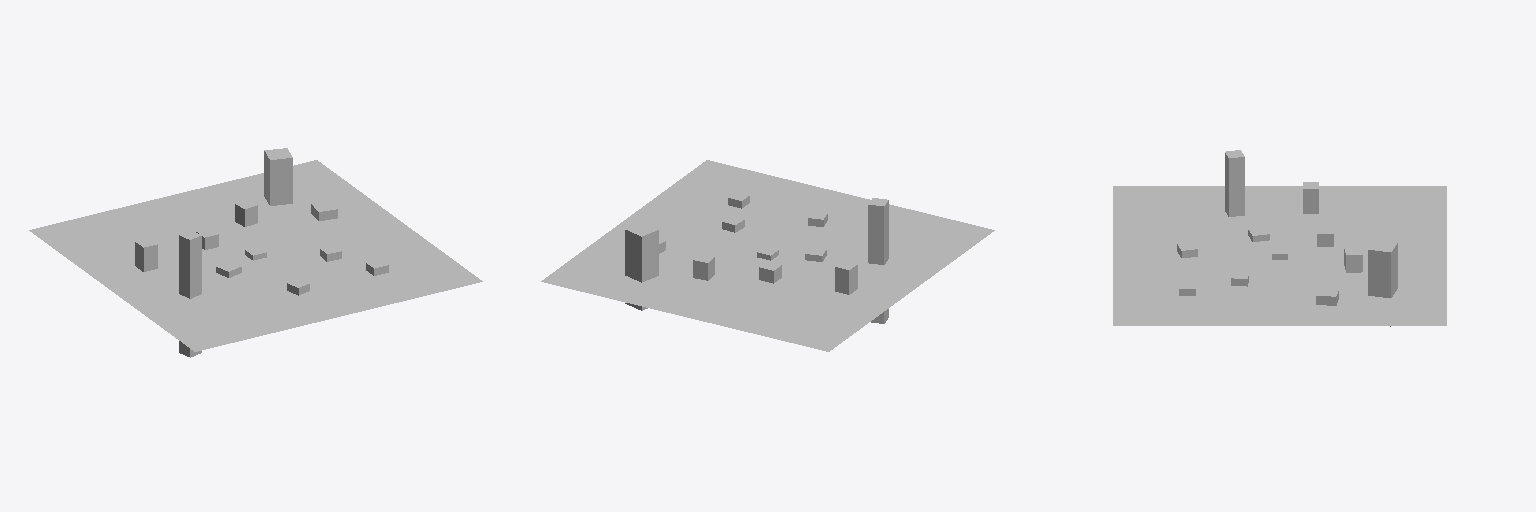
Rendered from light_test.obj.
3 renders of one model, left to right at view 1: azimuth 30°, elevation 25°; view 2: azimuth 150°, elevation 25°; view 3: azimuth 270°, elevation 25°, orthographic.
Visible parts, largest first — view 1: Plane; view 2: Plane; view 3: Plane.
Boxes of the visible parts, box(x1,y1,x2,y2) form: Plane: box(29, 148, 482, 357); Plane: box(541, 160, 994, 351); Plane: box(1113, 150, 1446, 326).
Size of the model in its own units: 40 by 15.59 by 40.